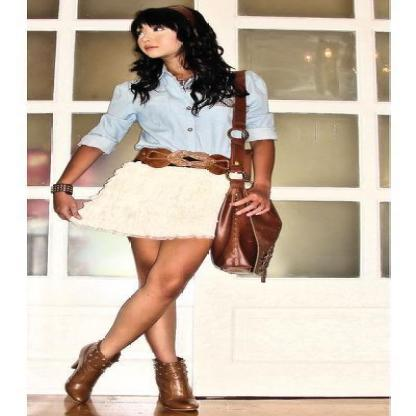bag: (206, 67, 281, 282)
shirt: (77, 68, 275, 157)
shoe: (64, 341, 222, 415)
skirt: (78, 161, 229, 240)
